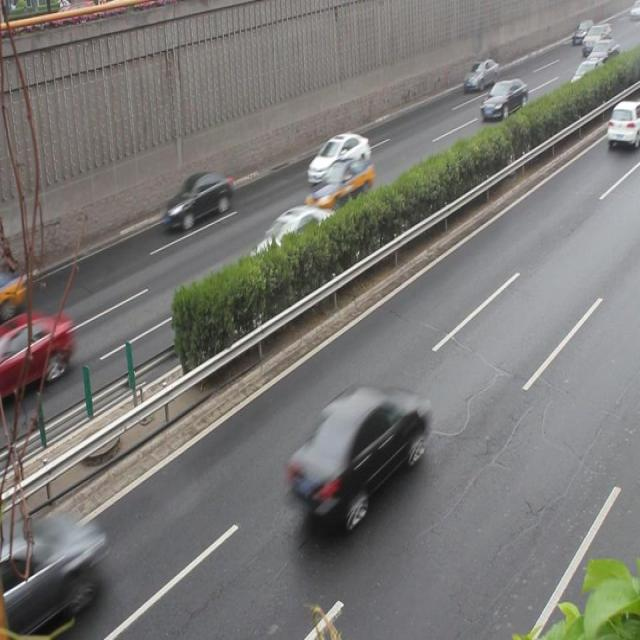car: (286, 386, 423, 522), (245, 208, 337, 280), (0, 312, 72, 390), (162, 171, 233, 233), (302, 158, 374, 214), (306, 132, 370, 187), (479, 76, 528, 122), (604, 100, 640, 150)
